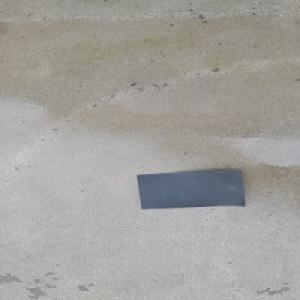PaintChip: (136, 169, 246, 209)
